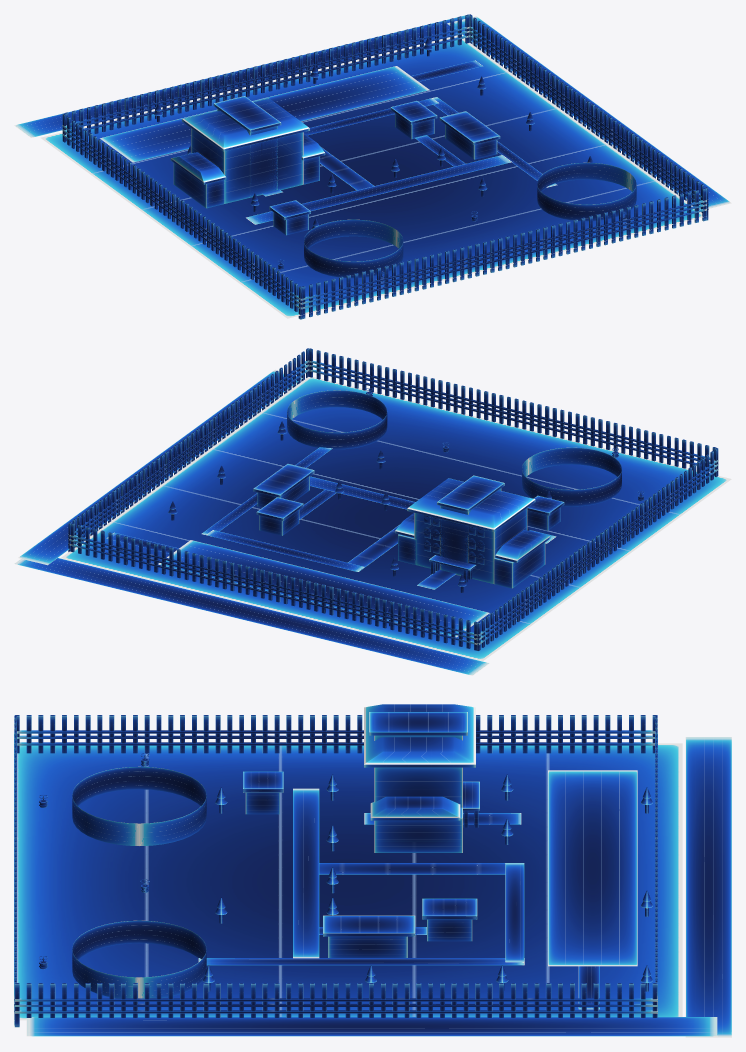
File: queren111.gltf
3 renders of one model, top to bottom at view 1: azimuth 30°, elevation 25°; view 2: azimuth 150°, elevation 25°; view 3: azimuth 270°, elevation 25°, orthographic. The views are drawn at different scales.
Visible parts, largest first — view 1: shuichang水厂meiyou没有shuichi水池meiyoulou没有喽, 水厂.1, 圆柱.000, 圆柱.1; view 2: shuichang水厂meiyou没有shuichi水池meiyoulou没有喽, 水厂.1, 圆柱.1, 圆柱.000; view 3: shuichang水厂meiyou没有shuichi水池meiyoulou没有喽, 水厂.1, 圆柱.000, 圆柱.1.
Part boxes in pixels (x1,y1,x2,y2): shuichang水厂meiyou没有shuichi水池meiyoulou没有喽: (14, 14, 731, 319); 水厂.1: (170, 96, 325, 208); 圆柱.000: (304, 219, 403, 278); 圆柱.1: (537, 162, 636, 221); shuichang水厂meiyou没有shuichi水池meiyoulou没有喽: (14, 348, 731, 675); 水厂.1: (395, 475, 550, 588); 圆柱.1: (287, 390, 387, 449); 圆柱.000: (522, 447, 621, 506); shuichang水厂meiyou没有shuichi水池meiyoulou没有喽: (14, 715, 731, 1037); 水厂.1: (364, 704, 479, 852); 圆柱.000: (72, 766, 206, 845); 圆柱.1: (72, 920, 206, 998).
Size of the model in its own units: 160 by 24.69 by 161.
Materials: 8 (8 with a texture image).
